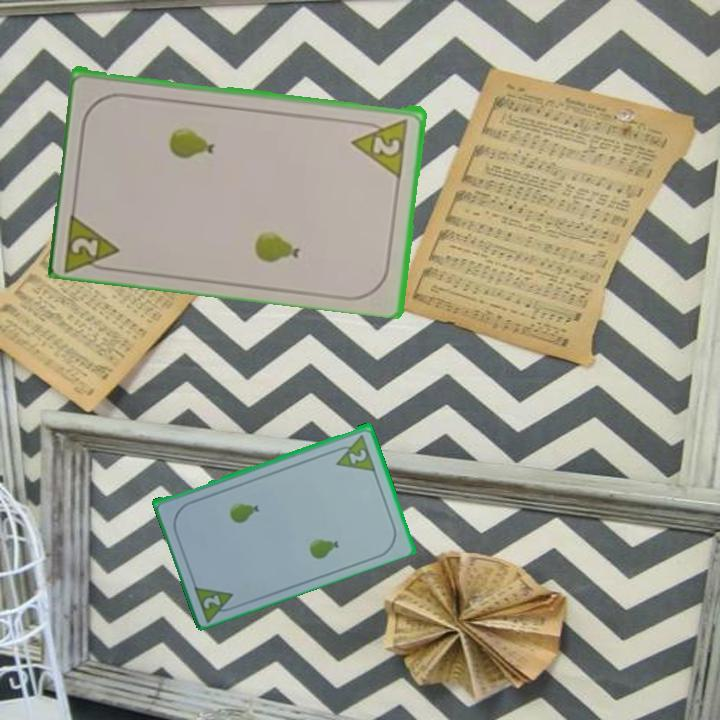2p: (61, 206, 123, 274), (349, 114, 411, 178), (329, 430, 378, 474), (200, 590, 224, 611)
